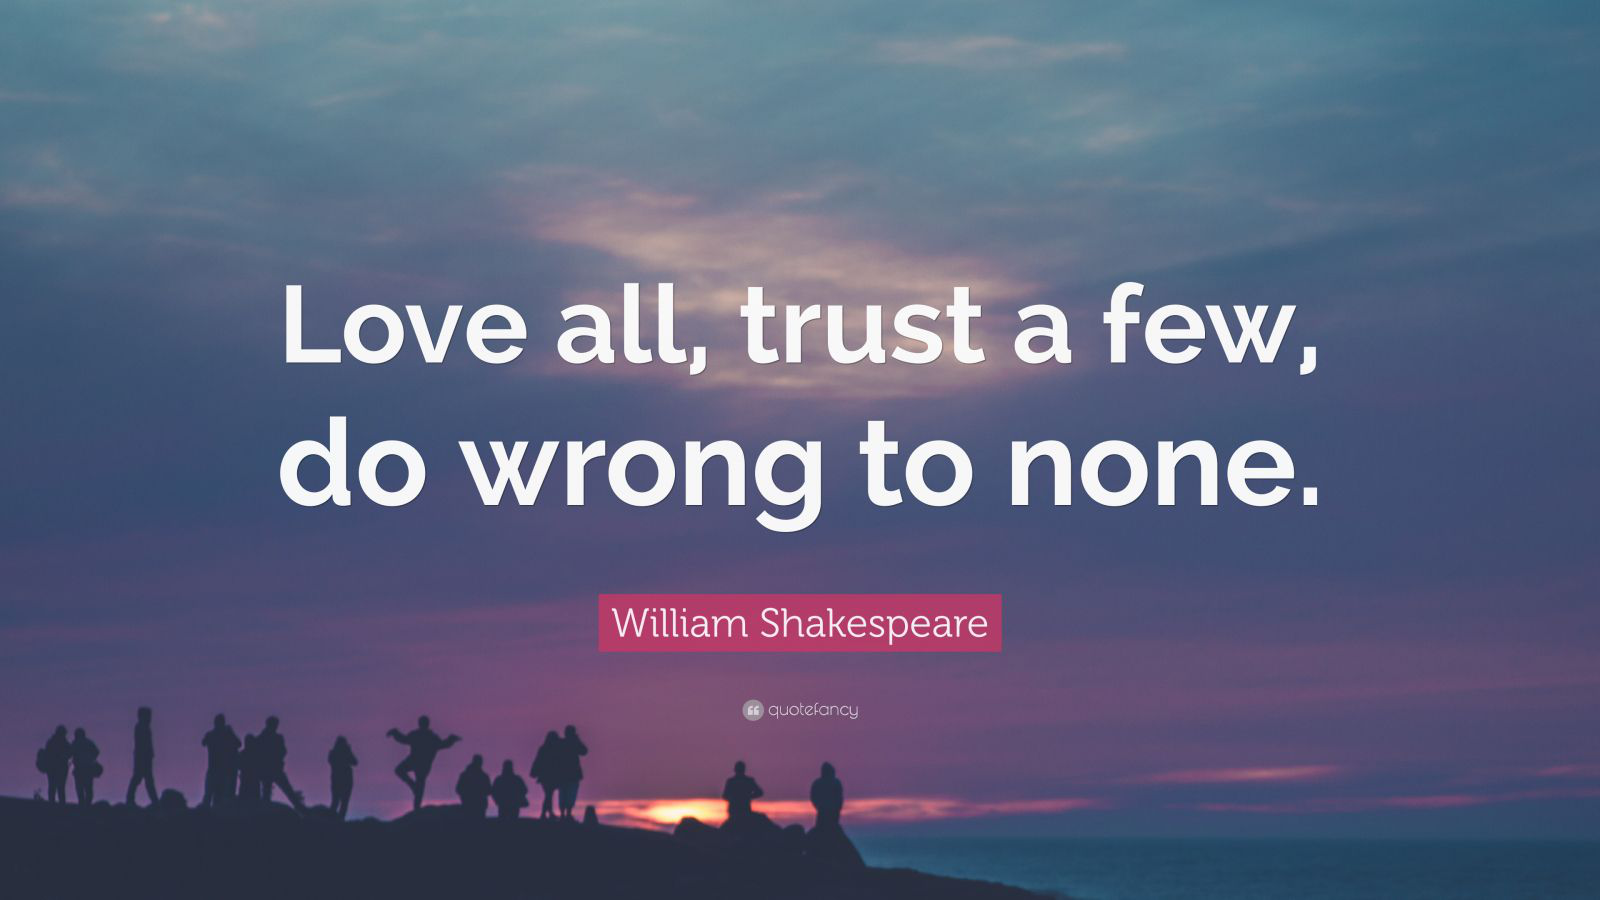latin: (269, 279, 1330, 537), (605, 601, 991, 648), (767, 698, 859, 723)
